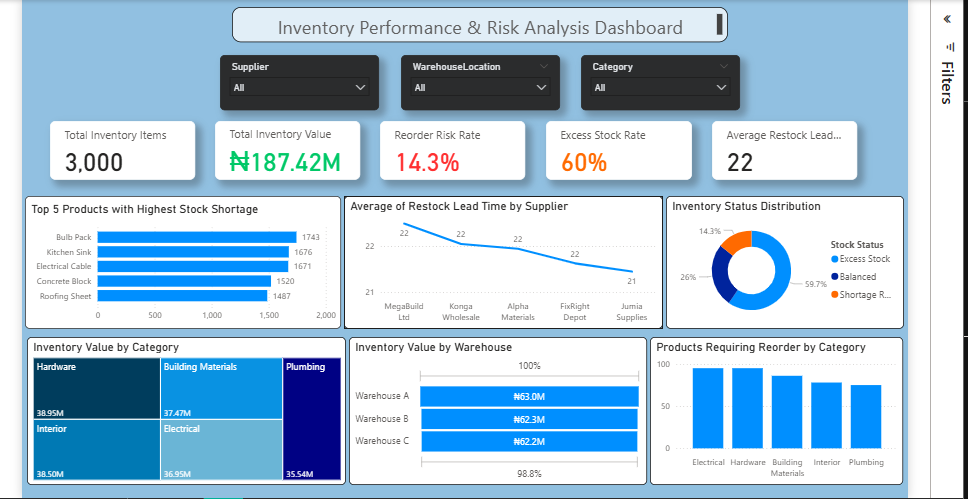

This screenshot's page, from the dashboard's own definition file:
{"tool":"powerbi","page":{"name":"Page 1","canvas":[1280,720],"ordinal":0},"visuals":[{"type":"slicer","fields":{"Values":["Table1.Supplier"]},"box":[286.3,80,230,80],"z":0},{"type":"slicer","fields":{"Values":["Table1.WarehouseLocation"]},"box":[547.2,80,230,80],"z":1000},{"type":"slicer","fields":{"Values":["Table1.Category"]},"box":[808.2,80,230,80],"z":2000},{"type":"cardVisual","fields":{"Data":["Table1.Total Inventory Items"]},"box":[40.5,174.9,209.6,85.3],"z":3000},{"type":"cardVisual","fields":{"Data":["Table1.Total Inventory Value"]},"box":[279.4,174.9,209.6,85.3],"z":4000},{"type":"cardVisual","fields":{"Data":["Table1.Inventory Risk Rate"]},"box":[518.3,174.9,209.6,85.3],"z":5000},{"type":"cardVisual","fields":{"Data":["Table1.Overstock Rate"]},"box":[757.2,174.9,211.1,85.3],"z":6000},{"type":"cardVisual","fields":{"Data":["Table1.Average Restock Lead Time"]},"box":[997.6,174.9,209.6,85.3],"z":7000},{"type":"funnel","title":"Inventory Value by Warehouse","fields":{"Category":["Table1.WarehouseLocation"],"Y":["Table1.Total Inventory Value"]},"box":[472.8,486.8,430.8,214],"z":8000},{"type":"treemap","title":"Inventory Value by Category","fields":{"Group":["Table1.Category"],"Values":["Sum(Table1.Stock Values)"]},"box":[7.2,486.8,461.2,214],"z":9000},{"type":"donutChart","title":"Inventory Status Distribution","fields":{"Category":["Table1.Stock Status"],"Y":["CountNonNull(Table1.ProductID)"]},"box":[931.1,283.4,344.1,192.3],"z":10000},{"type":"clusteredBarChart","title":"Top 5 Products with Highest Stock Shortage","fields":{"Category":["Table1.ProductName"],"Y":["Sum(Table1.Shortage)"]},"box":[4.3,283.4,456.9,192.3],"z":11000},{"type":"lineChart","fields":{"Category":["Table1.Supplier"],"Y":["Avg(Table1.Restock Lead Time)"]},"box":[465.5,283.4,461.2,192.3],"z":12000},{"type":"clusteredColumnChart","title":"Products Requiring Reorder by Category","fields":{"Y":["CountNonNull(Table1.ProductID)"],"Category":["Table1.Category"]},"box":[908,486.8,365.8,214],"z":13000},{"type":"textbox","box":[303.6,10.1,717.1,50.6],"z":14000}]}

Visuals, with their boxes in screenshot pixels (x1, y1, x2, y2):
slicer - Table1.Supplier: bbox(221, 55, 378, 109)
slicer - Table1.WarehouseLocation: bbox(399, 55, 557, 109)
slicer - Table1.Category: bbox(578, 55, 735, 109)
cardVisual - Table1.Total Inventory Items: bbox(53, 120, 196, 178)
cardVisual - Table1.Total Inventory Value: bbox(216, 120, 360, 178)
cardVisual - Table1.Inventory Risk Rate: bbox(380, 120, 523, 178)
cardVisual - Table1.Overstock Rate: bbox(543, 120, 687, 178)
cardVisual - Table1.Average Restock Lead Time: bbox(707, 120, 851, 178)
"Inventory Value by Warehouse" funnel: bbox(348, 333, 643, 479)
"Inventory Value by Category" treemap: bbox(30, 333, 345, 479)
"Inventory Status Distribution" donutChart: bbox(662, 194, 897, 325)
"Top 5 Products with Highest Stock Shortage" clusteredBarChart: bbox(28, 194, 341, 325)
lineChart - Table1.Supplier x Avg(Table1.Restock Lead Time): bbox(343, 194, 659, 325)
"Products Requiring Reorder by Category" clusteredColumnChart: bbox(646, 333, 896, 479)
textbox: bbox(233, 7, 723, 41)
